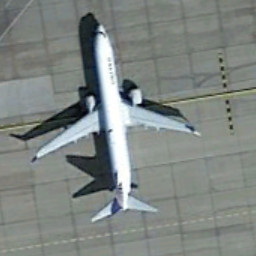Airplane: (27, 14, 212, 242)
